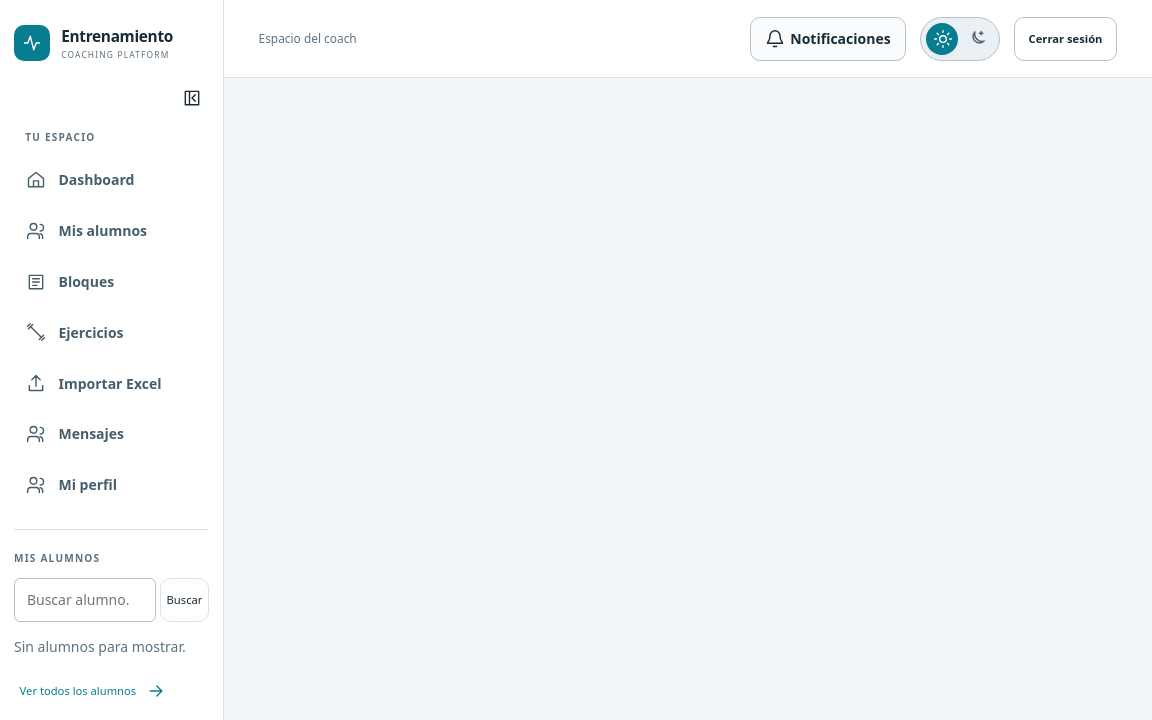
Scenario: Navegación por rol › muestra navegación coach, lista limitada y sidebar colapsable
The width and height of the screenshot is (1152, 720).
Expected: the text "Sin alumnos para mostrar." is shown, x1=14 y1=636 x2=209 y2=658
Click the button named "Colapsar barra lateral". click: [192, 98]
box: x1=175 y1=76 x2=209 y2=120
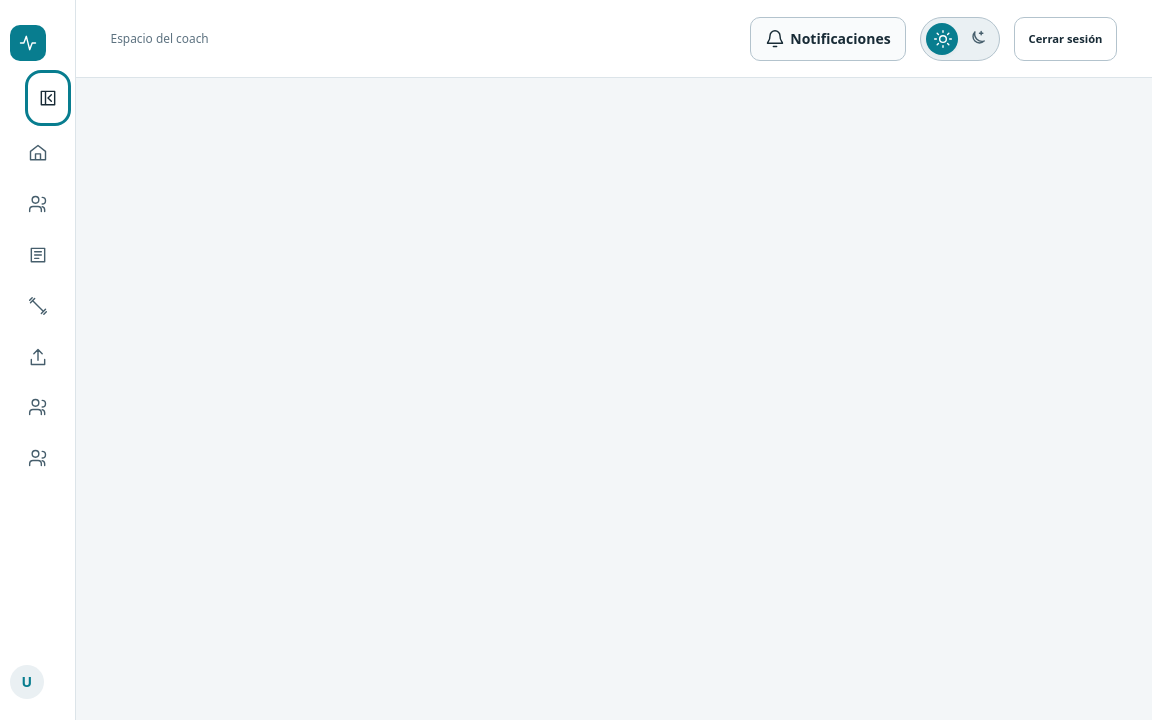
Expected: the field labelled "Buscar alumnos" is not shown
Click the button named "Expandir barra lateral". click: [48, 98]
box: x1=31 y1=76 x2=65 y2=120
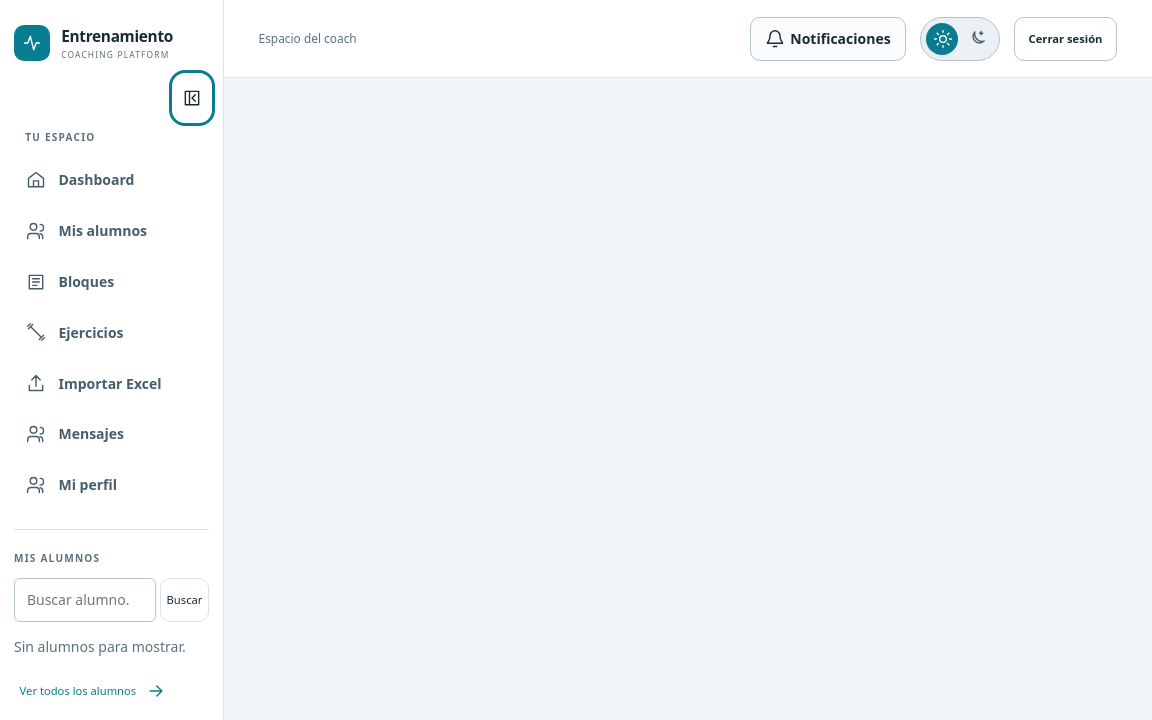
Expected: the search field named "Buscar alumnos" is shown, x1=14 y1=578 x2=156 y2=622
